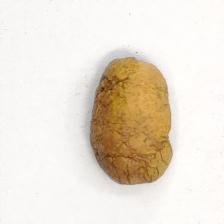NG: (93, 140, 171, 185), (93, 72, 131, 102)
